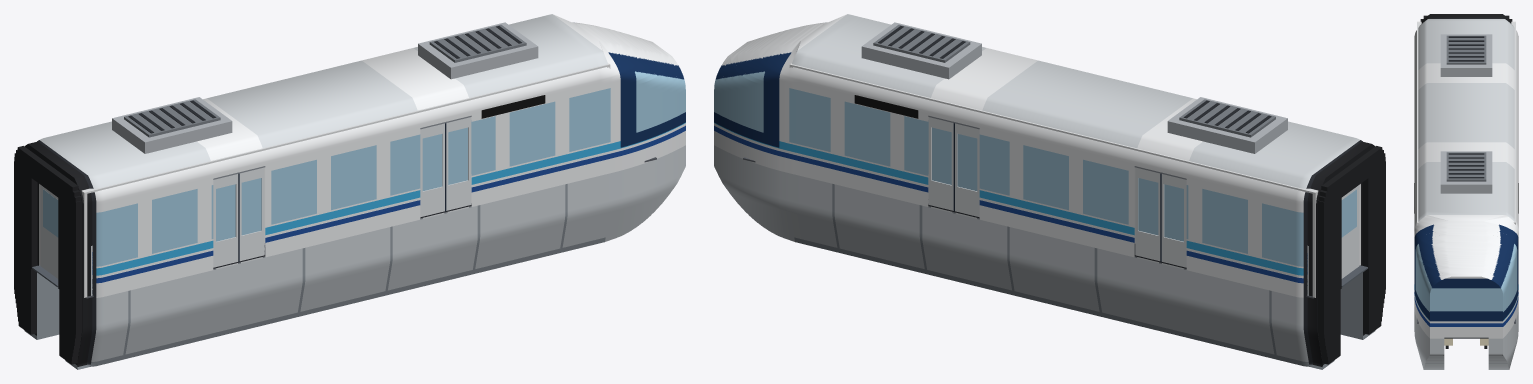
File: osaka_front.obj
The picture shows the model from 3 angles, left to right: view 1: azimuth 30°, elevation 25°; view 2: azimuth 150°, elevation 25°; view 3: azimuth 270°, elevation 25°; orthographic projection. The views are drawn at different scales.
Parts seen in each view (by area): view 1: SHELL, SHELL_diaphragm, SHELL_roof, EXTERNAL_DOOR_3_CG_DR1_TOGGLE_TL_-0.59_X, EXTERNAL_DOOR_9_CG_DR2_TOGGLE_TL_-0.59_X, EXTERNAL_DOOR_10_CG_DR2_TOGGLE_TL_0.59_X, EXTERNAL_DOOR_4_CG_DR1_TOGGLE_TL_0.59_X, SHELL_ceiling, CONNECTING_DOOR_1_CG_CR_TOGGLE_TL_0.98_Z, SHELL_end, SHELL_sign; view 2: SHELL, SHELL_diaphragm, SHELL_roof, EXTERNAL_DOOR_6_CG_DL1_TOGGLE_TL_-0.59_X, EXTERNAL_DOOR_12_CG_DL2_TOGGLE_TL_-0.59_X, EXTERNAL_DOOR_13_CG_DL2_TOGGLE_TL_0.59_X, EXTERNAL_DOOR_7_CG_DL1_TOGGLE_TL_0.59_X, SHELL_ceiling, CONNECTING_DOOR_1_CG_CR_TOGGLE_TL_0.98_Z, SHELL_end, SHELL_sign; view 3: SHELL, SHELL_roof, SHELL_ceiling, HEADLIGHT_1.
Boxes of the visible parts, bbox=[...] form: SHELL: bbox=[24, 14, 685, 369]; SHELL_diaphragm: bbox=[14, 146, 81, 364]; SHELL_roof: bbox=[112, 22, 538, 153]; EXTERNAL_DOOR_3_CG_DR1_TOGGLE_TL_-0.59_X: bbox=[213, 173, 239, 267]; EXTERNAL_DOOR_9_CG_DR2_TOGGLE_TL_-0.59_X: bbox=[420, 123, 446, 217]; EXTERNAL_DOOR_10_CG_DR2_TOGGLE_TL_0.59_X: bbox=[446, 117, 471, 210]; EXTERNAL_DOOR_4_CG_DR1_TOGGLE_TL_0.59_X: bbox=[239, 167, 264, 261]; SHELL_ceiling: bbox=[24, 64, 606, 193]; CONNECTING_DOOR_1_CG_CR_TOGGLE_TL_0.98_Z: bbox=[40, 185, 58, 278]; SHELL_end: bbox=[39, 184, 87, 297]; SHELL_sign: bbox=[481, 95, 545, 118]; SHELL: bbox=[714, 14, 1375, 369]; SHELL_diaphragm: bbox=[1318, 146, 1385, 364]; SHELL_roof: bbox=[861, 22, 1287, 153]; EXTERNAL_DOOR_6_CG_DL1_TOGGLE_TL_-0.59_X: bbox=[1160, 173, 1186, 267]; EXTERNAL_DOOR_12_CG_DL2_TOGGLE_TL_-0.59_X: bbox=[953, 123, 979, 217]; EXTERNAL_DOOR_13_CG_DL2_TOGGLE_TL_0.59_X: bbox=[928, 117, 953, 210]; EXTERNAL_DOOR_7_CG_DL1_TOGGLE_TL_0.59_X: bbox=[1135, 167, 1160, 261]; SHELL_ceiling: bbox=[793, 64, 1375, 193]; CONNECTING_DOOR_1_CG_CR_TOGGLE_TL_0.98_Z: bbox=[1341, 185, 1359, 278]; SHELL_end: bbox=[1312, 184, 1360, 297]; SHELL_sign: bbox=[854, 95, 918, 118]; SHELL: bbox=[1414, 14, 1518, 369]; SHELL_roof: bbox=[1440, 34, 1492, 193]; SHELL_ceiling: bbox=[1417, 22, 1515, 221]; HEADLIGHT_1: bbox=[1444, 338, 1488, 345].
Bounding box in the file's own units: 15.55 × 4.91 × 2.92.
Materials: 1 (1 with a texture image).
